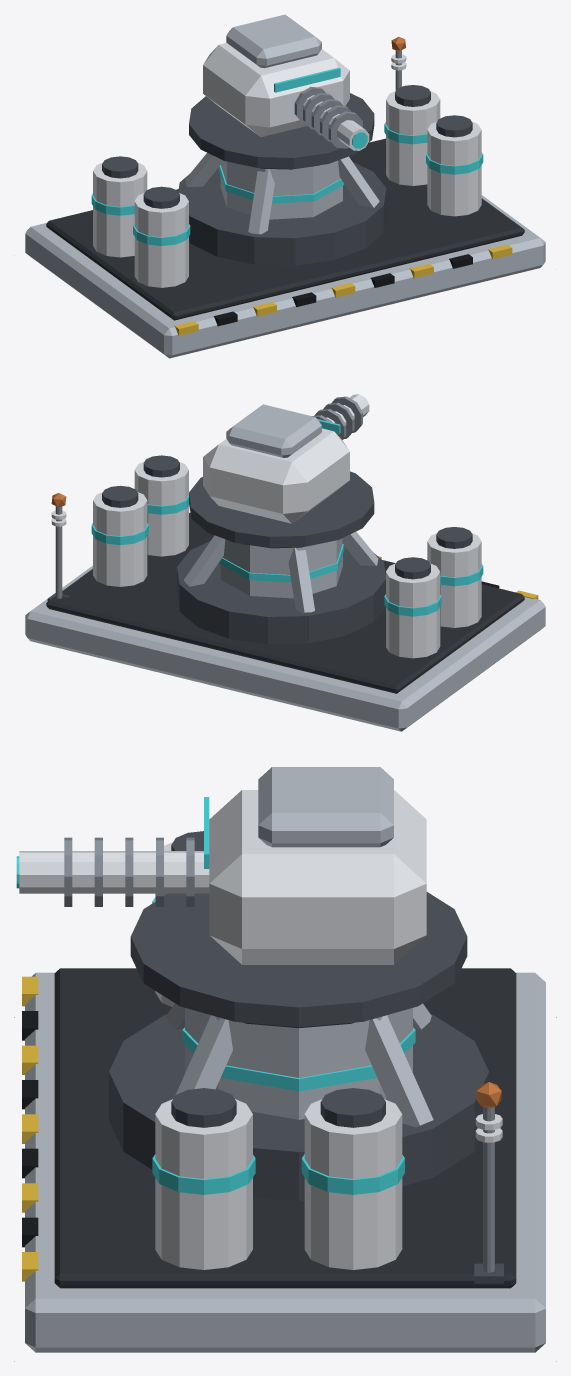
The model's file is tourelle_laser.glb.
3 views of the same model, one above another, from view 1: azimuth 30°, elevation 25°; view 2: azimuth 150°, elevation 25°; view 3: azimuth 270°, elevation 25° (orthographic). The views are drawn at different scales.
Parts seen in each view (by area): view 1: pieces_gris_clair.002, pieces_fonte.006, couronne.006, tourelle_blanc.002, tourelle_acier_sombre.006, fut.006, condensateur_1_0.002, condensateur_-1_0.002, condensateur_-1_1.002, condensateur_1_1.002, tourelle_gris_clair.002, pieces_acier_sombre.006 (+7 smaller); view 2: pieces_gris_clair.002, pieces_fonte.006, couronne.006, tourelle_blanc.002, tourelle_acier_sombre.006, fut.006, condensateur_1_1.002, condensateur_-1_1.002, condensateur_-1_0.002, condensateur_1_0.002, tourelle_gris_clair.002, pieces_acier_sombre.006 (+6 smaller); view 3: pieces_fonte.006, pieces_gris_clair.002, tourelle_blanc.002, tourelle_acier_sombre.006, couronne.006, condensateur_1_1.002, condensateur_1_0.002, fut.006, tourelle_gris_clair.002, pieces_acier_sombre.006, tourelle_acier.004, pieces_cyan.002 (+5 smaller).
Boxes of the visible parts, x1,y1,x2,y2 form: pieces_gris_clair.002: [25, 152, 545, 358]; pieces_fonte.006: [46, 138, 524, 320]; couronne.006: [178, 162, 386, 265]; tourelle_blanc.002: [203, 43, 369, 150]; tourelle_acier_sombre.006: [189, 93, 374, 168]; fut.006: [220, 159, 342, 219]; condensateur_1_0.002: [427, 121, 481, 216]; condensateur_-1_0.002: [134, 193, 188, 287]; condensateur_-1_1.002: [93, 162, 147, 257]; condensateur_1_1.002: [386, 91, 440, 185]; tourelle_gris_clair.002: [226, 14, 321, 68]; pieces_acier_sombre.006: [102, 85, 472, 208]; pieces_gris_clair.002: [25, 531, 545, 731]; pieces_fonte.006: [46, 513, 524, 693]; couronne.006: [177, 541, 385, 644]; tourelle_blanc.002: [203, 394, 369, 523]; tourelle_acier_sombre.006: [189, 471, 374, 547]; fut.006: [220, 538, 342, 598]; condensateur_1_1.002: [93, 492, 147, 586]; condensateur_-1_1.002: [386, 563, 440, 658]; condensateur_-1_0.002: [427, 533, 481, 627]; condensateur_1_0.002: [134, 461, 188, 556]; tourelle_gris_clair.002: [226, 404, 321, 457]; pieces_acier_sombre.006: [47, 455, 472, 601]; pieces_fonte.006: [54, 968, 516, 1288]; pieces_gris_clair.002: [25, 972, 545, 1352]; tourelle_blanc.002: [19, 790, 426, 964]; tourelle_acier_sombre.006: [130, 892, 467, 1027]; couronne.006: [109, 1014, 488, 1201]; condensateur_1_1.002: [304, 1099, 402, 1269]; condensateur_1_0.002: [155, 1099, 252, 1269]; fut.006: [185, 1008, 412, 1119]; tourelle_gris_clair.002: [258, 767, 393, 847]; pieces_acier_sombre.006: [171, 831, 503, 1283]; tourelle_acier.004: [64, 837, 194, 906]; pieces_cyan.002: [182, 1027, 415, 1091].
Size of the model in its own units: 1.5 by 0.8125 by 1.
